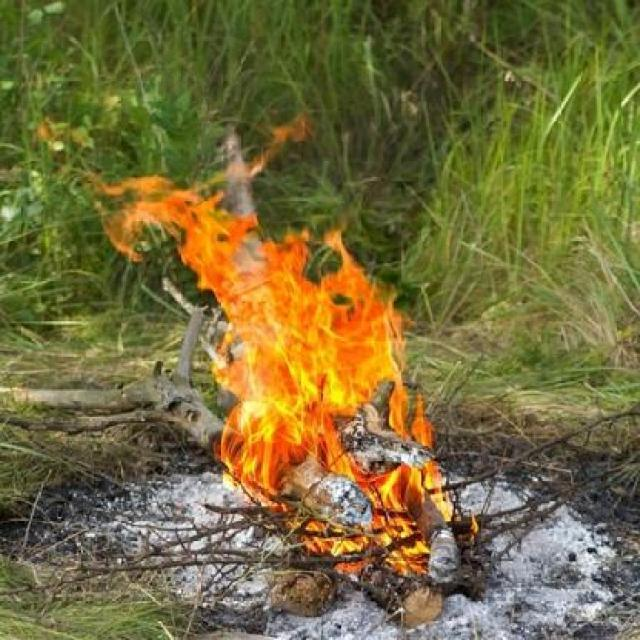Fire: (81, 106, 483, 628)
